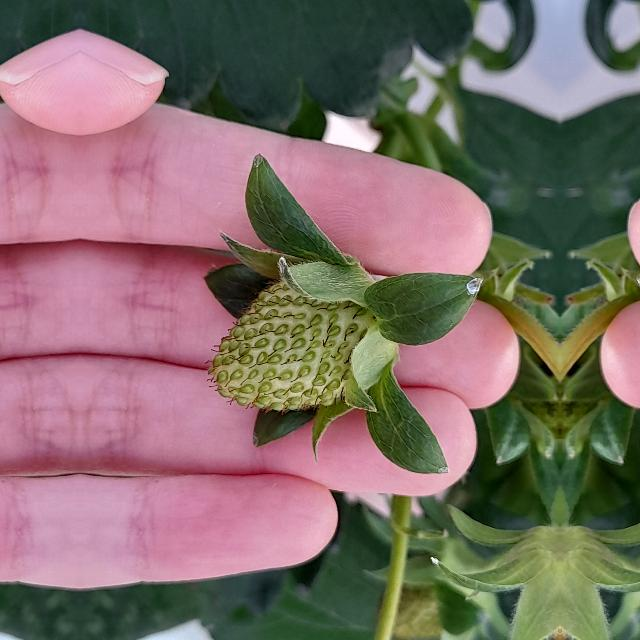Health_25: (205, 262, 388, 414)
